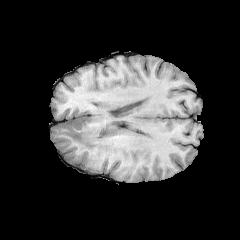glioma: (51, 106, 115, 154)
